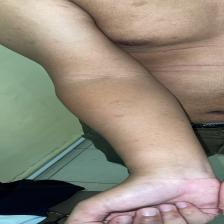DA: (73, 100, 186, 134)
